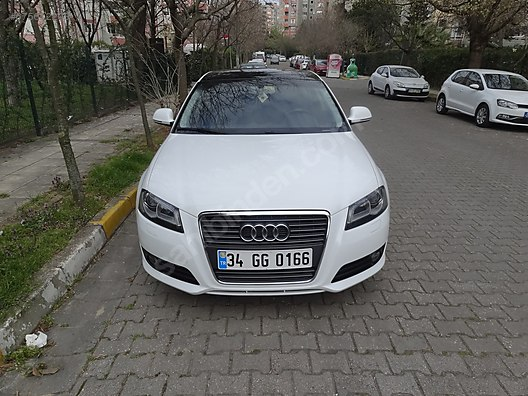audi: (233, 221, 293, 246)
